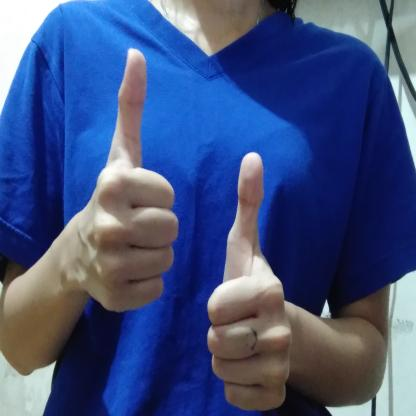which: (78, 45, 294, 415)
